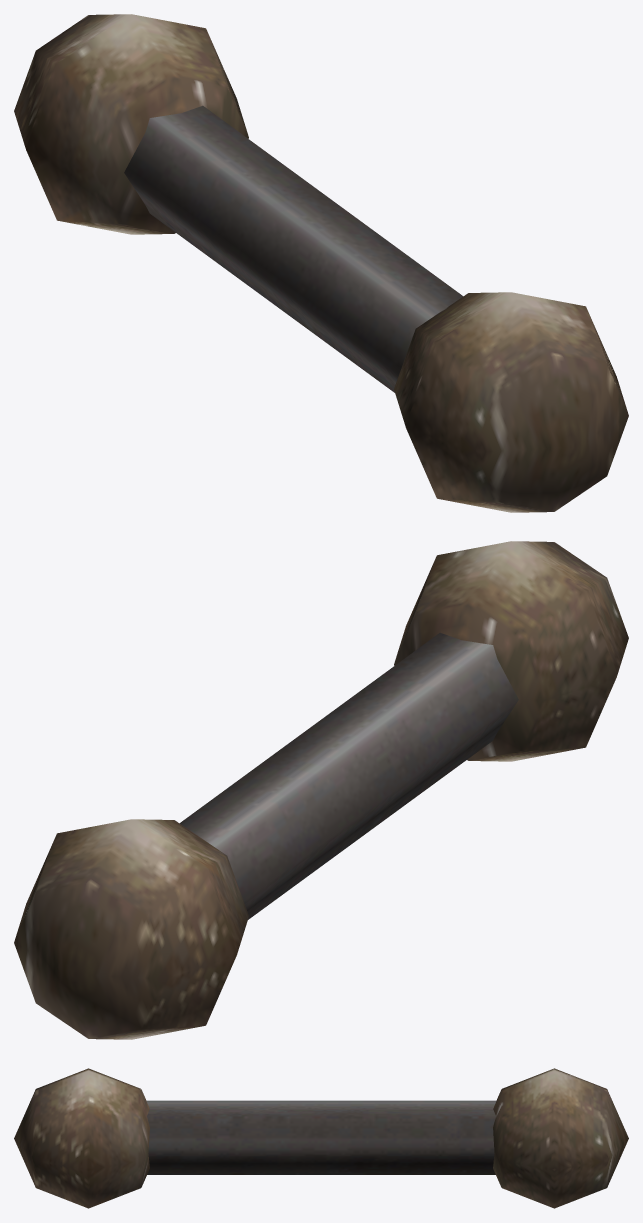
Rendered from railings_factory_05m_support.DAE.
The picture shows the model from 3 angles, top to bottom: view 1: azimuth 30°, elevation 25°; view 2: azimuth 150°, elevation 25°; view 3: azimuth 270°, elevation 25°; orthographic projection. The views are drawn at different scales.
Parts seen in each view (by area): view 1: Object108; view 2: Object108; view 3: Object108.
Part boxes in pixels (left/top/right/bottom): Object108: left=14, top=14, right=628, bottom=512; Object108: left=14, top=541, right=628, bottom=1039; Object108: left=14, top=1068, right=628, bottom=1208.
Size of the model in its own units: 0.12 by 0.12 by 0.4946.
